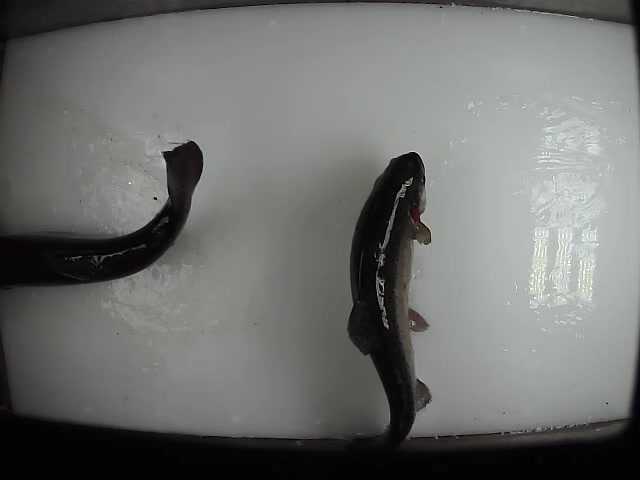Fish: (349, 151, 432, 453)
